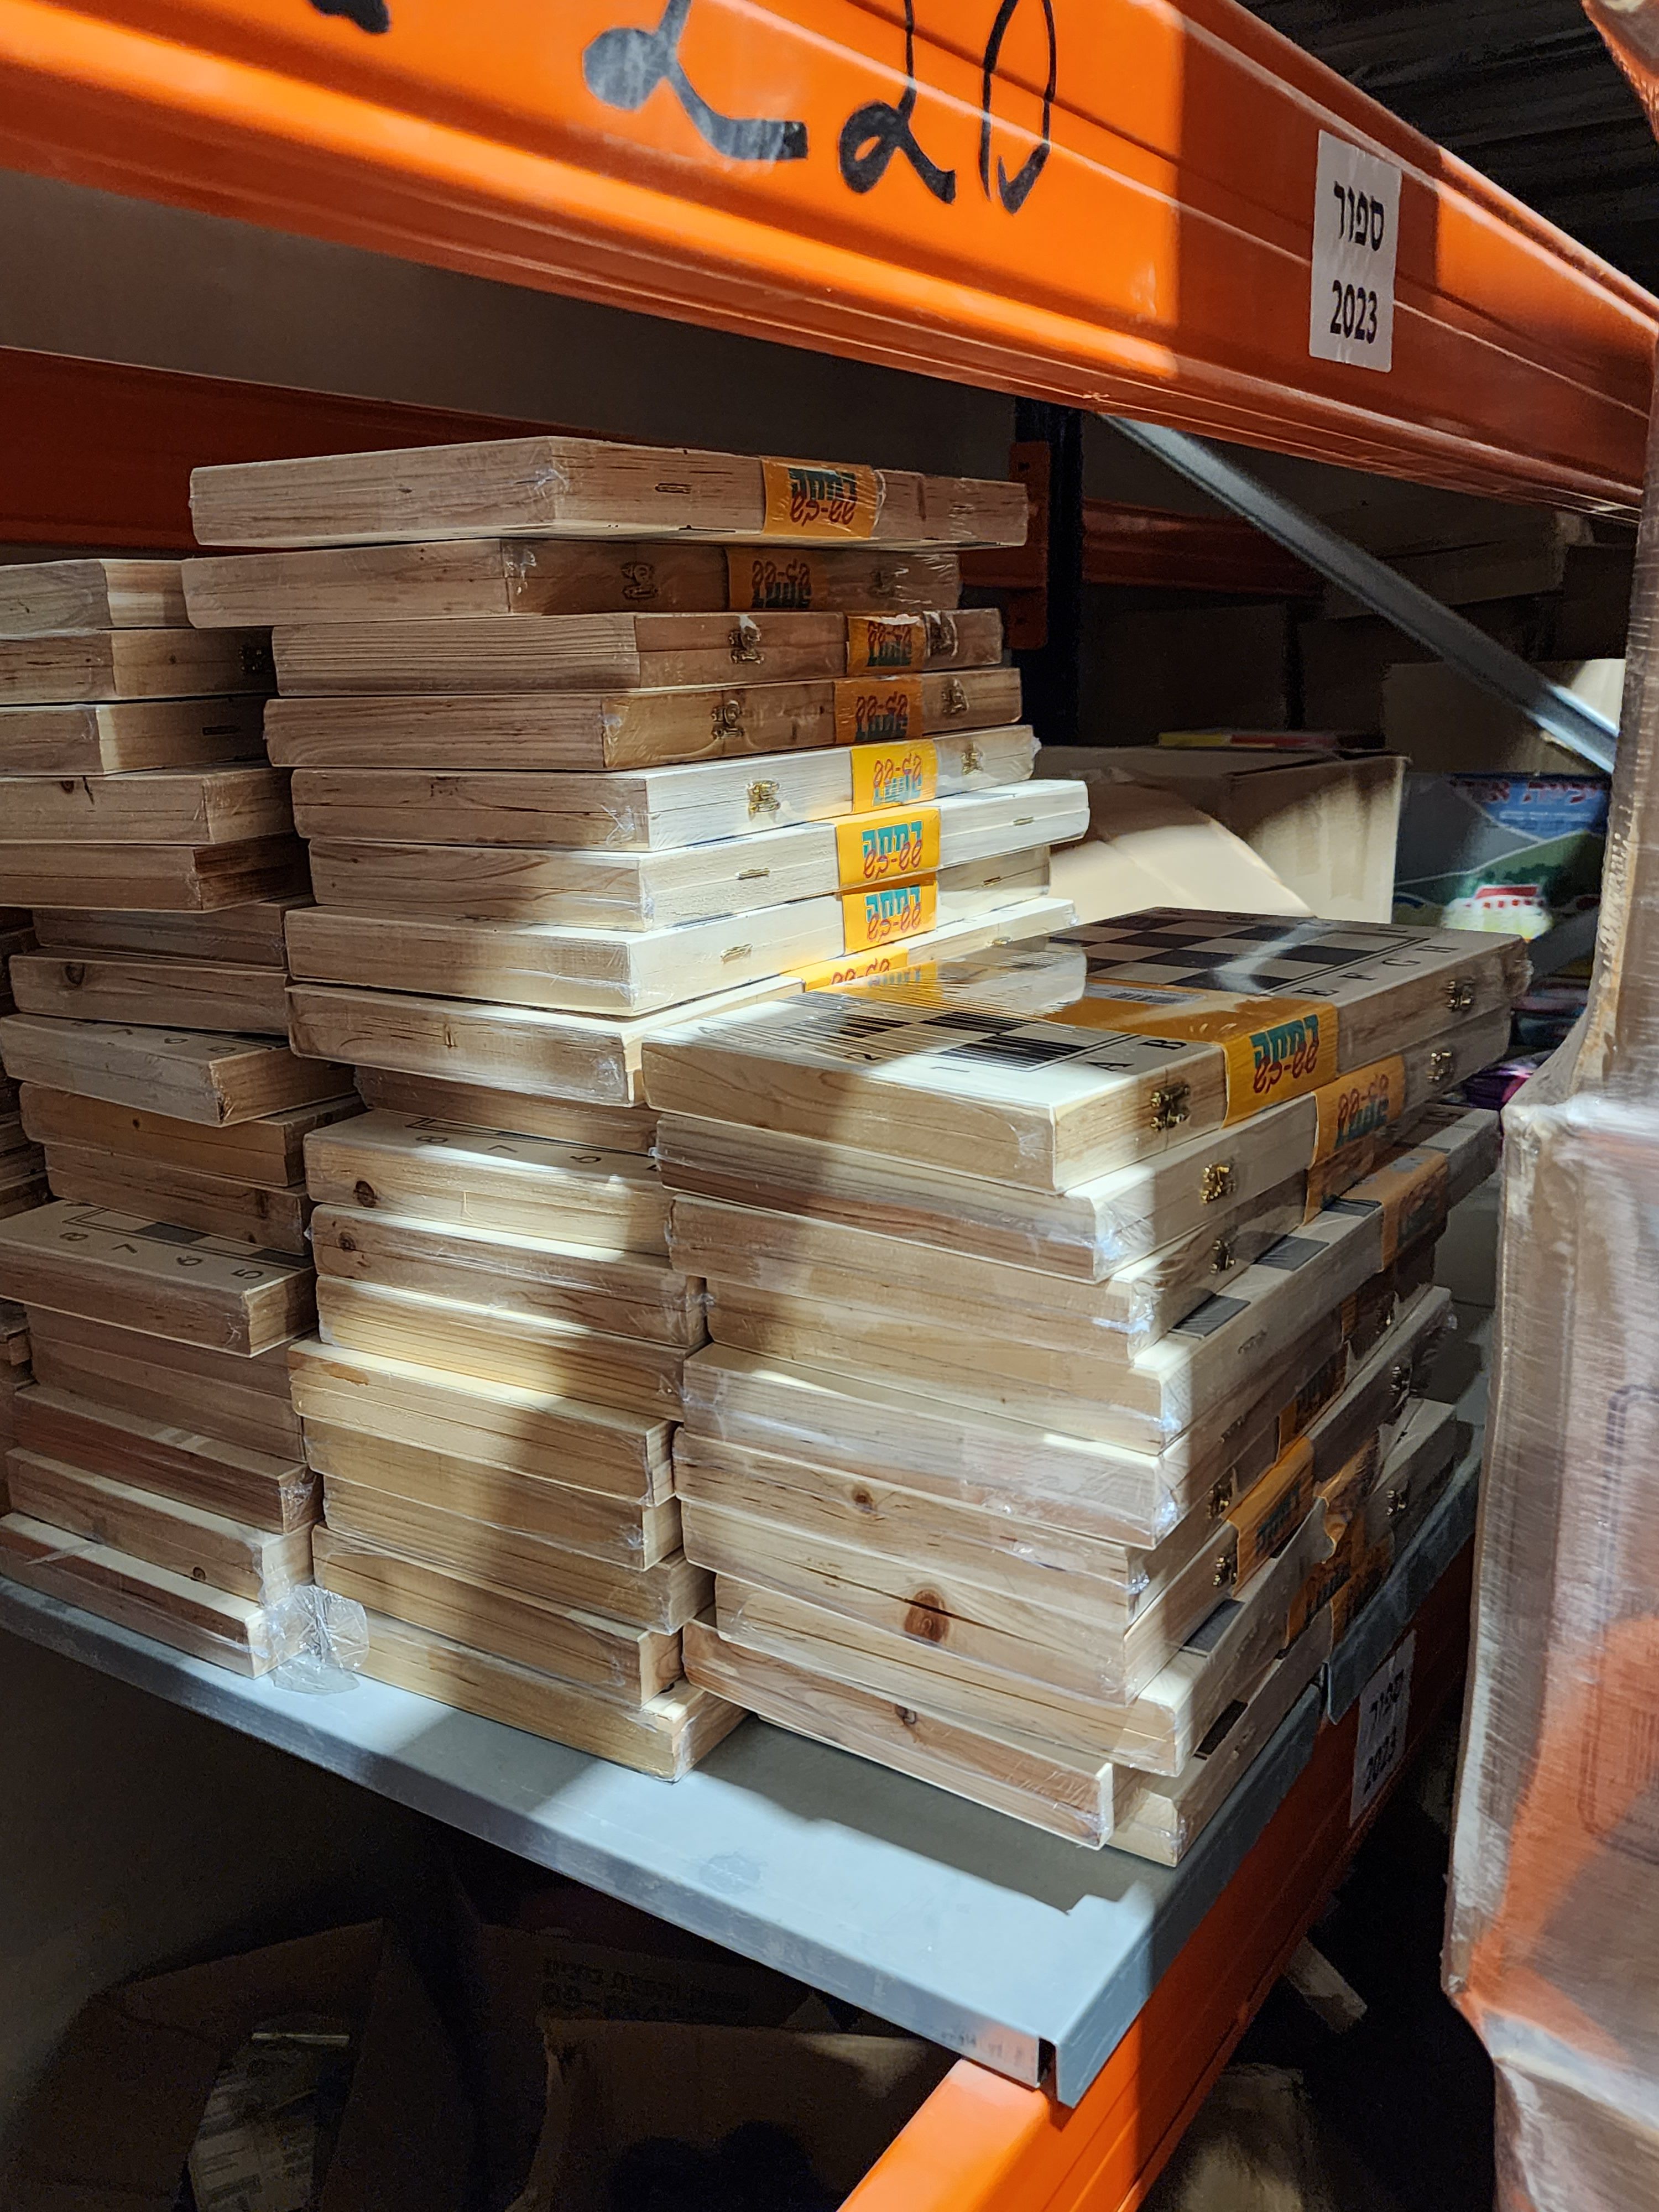box: (640, 1001, 1481, 1900), (202, 368, 697, 1775), (44, 498, 317, 1665)
